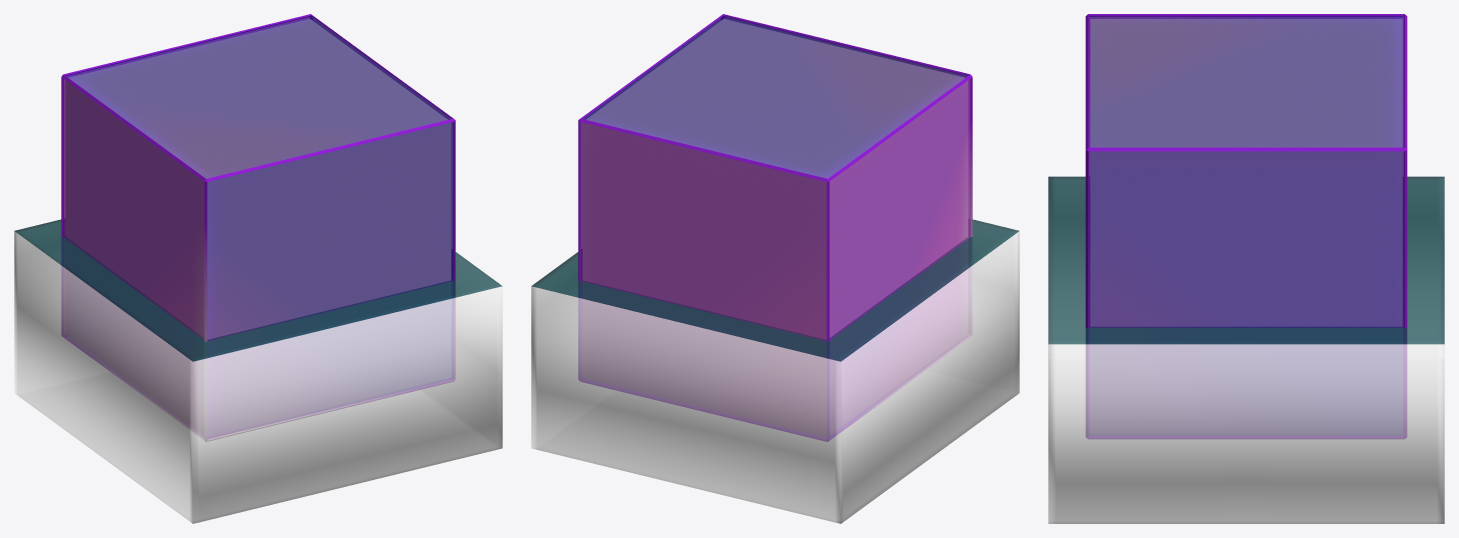
3 views of the same model, side by side, from view 1: azimuth 30°, elevation 25°; view 2: azimuth 150°, elevation 25°; view 3: azimuth 270°, elevation 25° (orthographic). The views are drawn at different scales.
Visible parts, largest first — view 1: 立方体.006_Baked, 布尔, 平面_primitive0, 平面_primitive1, 边线_Baked; view 2: 立方体.006_Baked, 布尔, 平面_primitive0, 平面_primitive1, 边线_Baked; view 3: 立方体.006_Baked, 布尔, 平面_primitive0, 平面_primitive1, 边线_Baked.
Boxes of the visible parts, bbox=[...] form: 立方体.006_Baked: bbox=[63, 16, 453, 438]; 布尔: bbox=[66, 19, 450, 352]; 平面_primitive0: bbox=[14, 220, 502, 523]; 平面_primitive1: bbox=[14, 219, 502, 361]; 边线_Baked: bbox=[61, 14, 455, 441]; 立方体.006_Baked: bbox=[580, 16, 970, 438]; 布尔: bbox=[583, 19, 967, 352]; 平面_primitive0: bbox=[531, 220, 1019, 523]; 平面_primitive1: bbox=[531, 219, 1019, 361]; 边线_Baked: bbox=[578, 14, 972, 441]; 立方体.006_Baked: bbox=[1089, 15, 1403, 436]; 布尔: bbox=[1090, 19, 1402, 326]; 平面_primitive0: bbox=[1048, 177, 1444, 523]; 平面_primitive1: bbox=[1048, 176, 1444, 344]; 边线_Baked: bbox=[1085, 14, 1407, 438].
Bounding box in the file's own units: 8.54 × 8.54 × 8.54.
10 materials, 7 textured.
